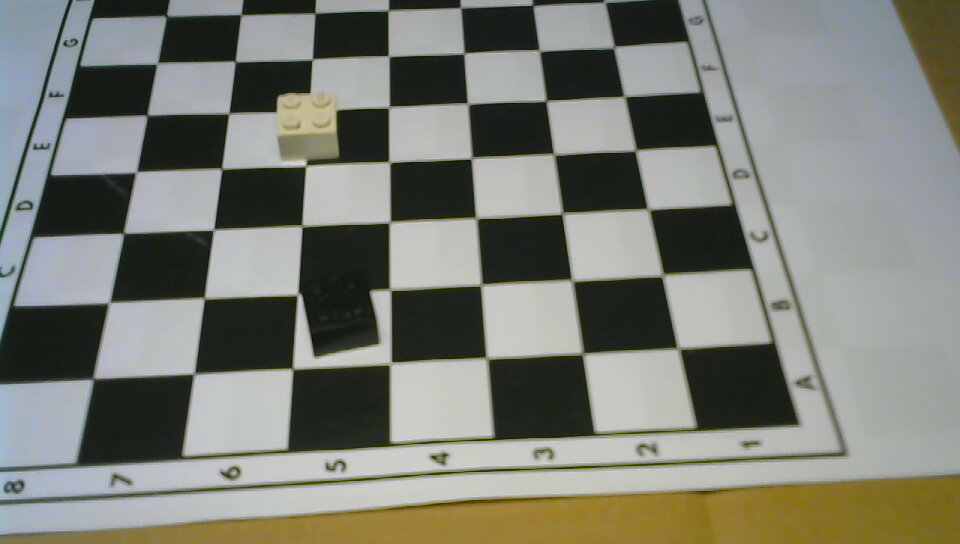bp: (299, 274, 379, 358)
wp: (275, 91, 341, 161)
